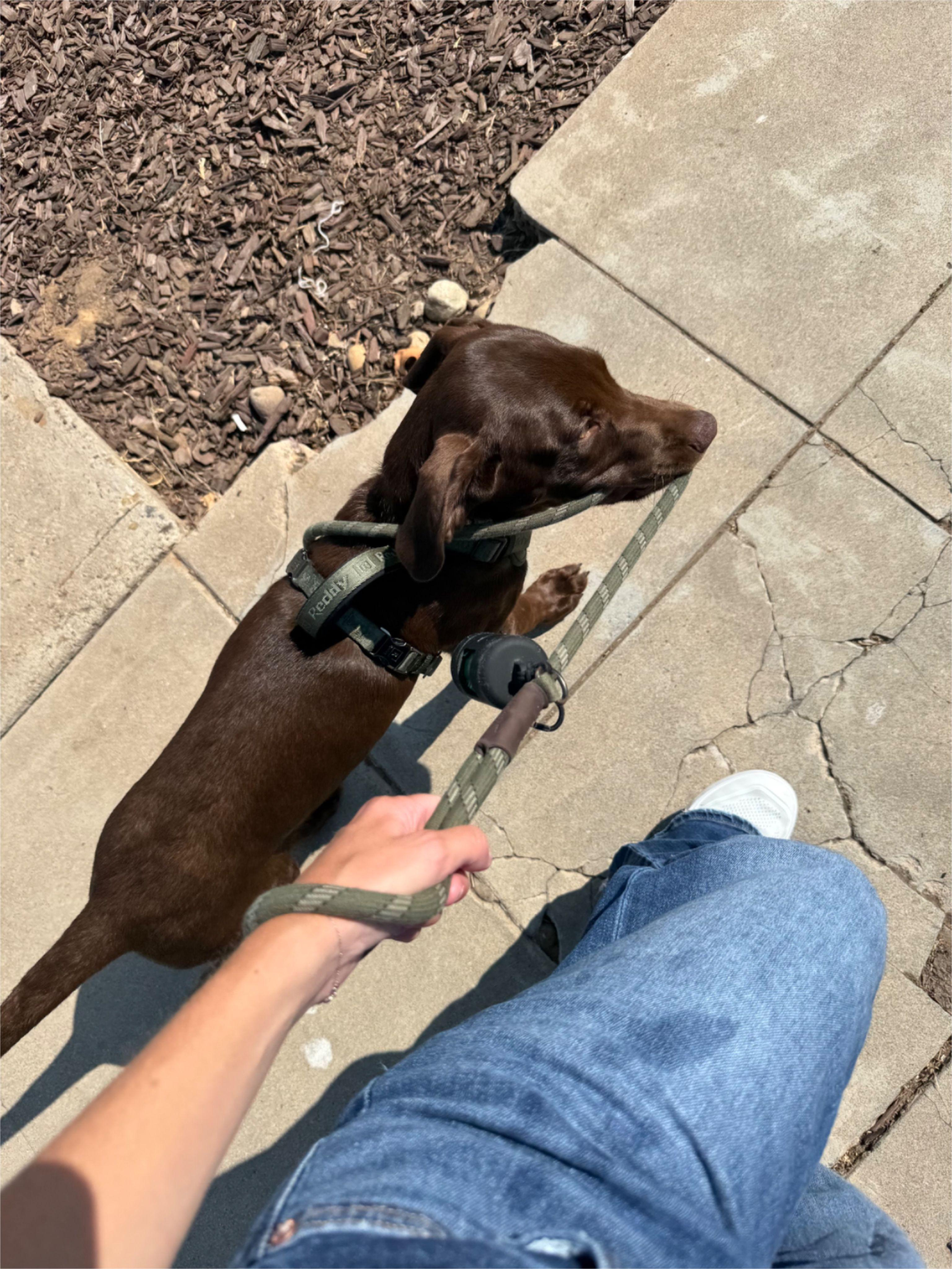adult_dog: (0, 313, 723, 1058)
non-dog: (0, 768, 932, 1269)
